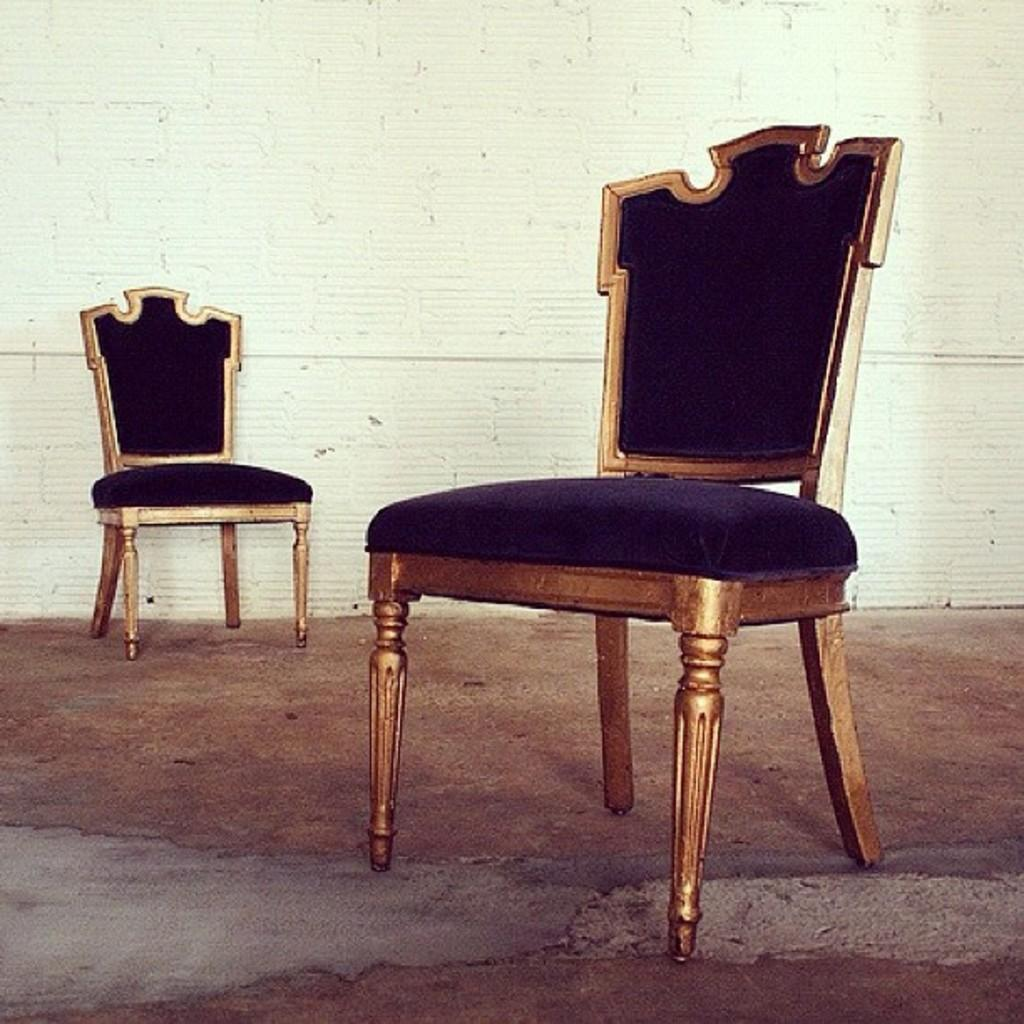Chair: (341, 147, 904, 952), (80, 284, 320, 653)
